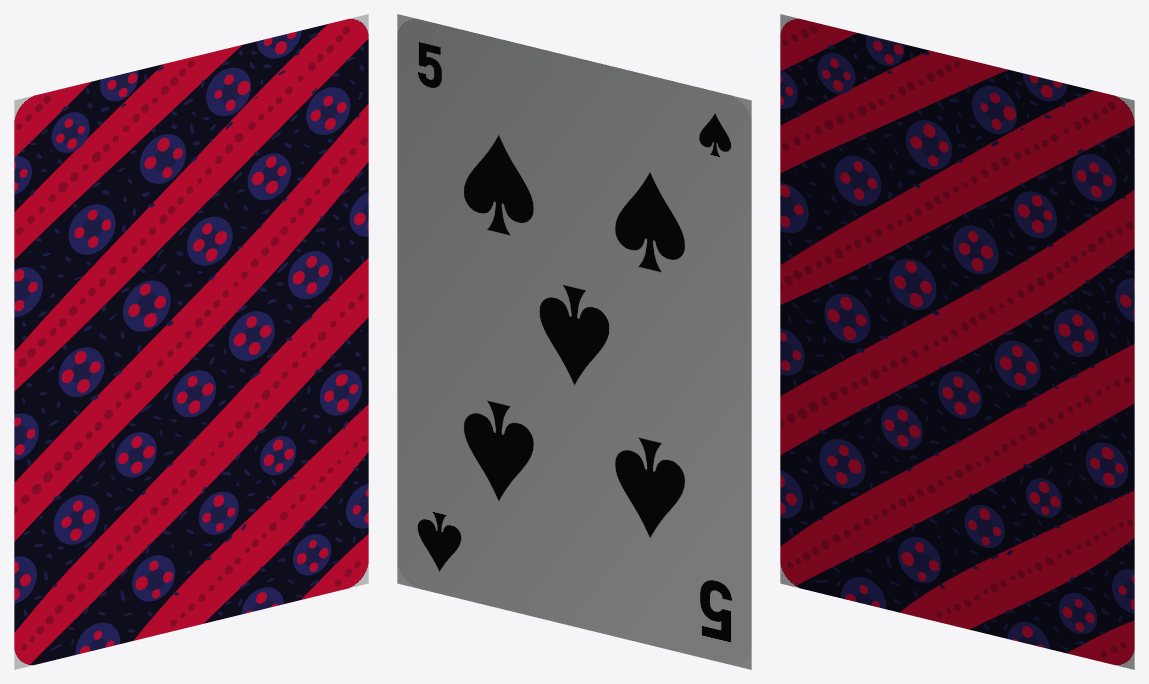
Rendered from 5 Spade.fbx.
3 renders of one model, left to right at view 1: azimuth 30°, elevation 25°; view 2: azimuth 150°, elevation 25°; view 3: azimuth 330°, elevation 25°, orthographic.
Parts seen in each view (by area): view 1: pPlane1; view 2: pPlane2; view 3: pPlane1.
Boxes of the visible parts, x1,y1,x2,y2 form: pPlane1: (14,14,368,669); pPlane2: (397,14,751,669); pPlane1: (780,14,1134,669).
Size of the model in its own units: 2.15 by 3.3 by 0.001.
2 materials, 2 textured.
